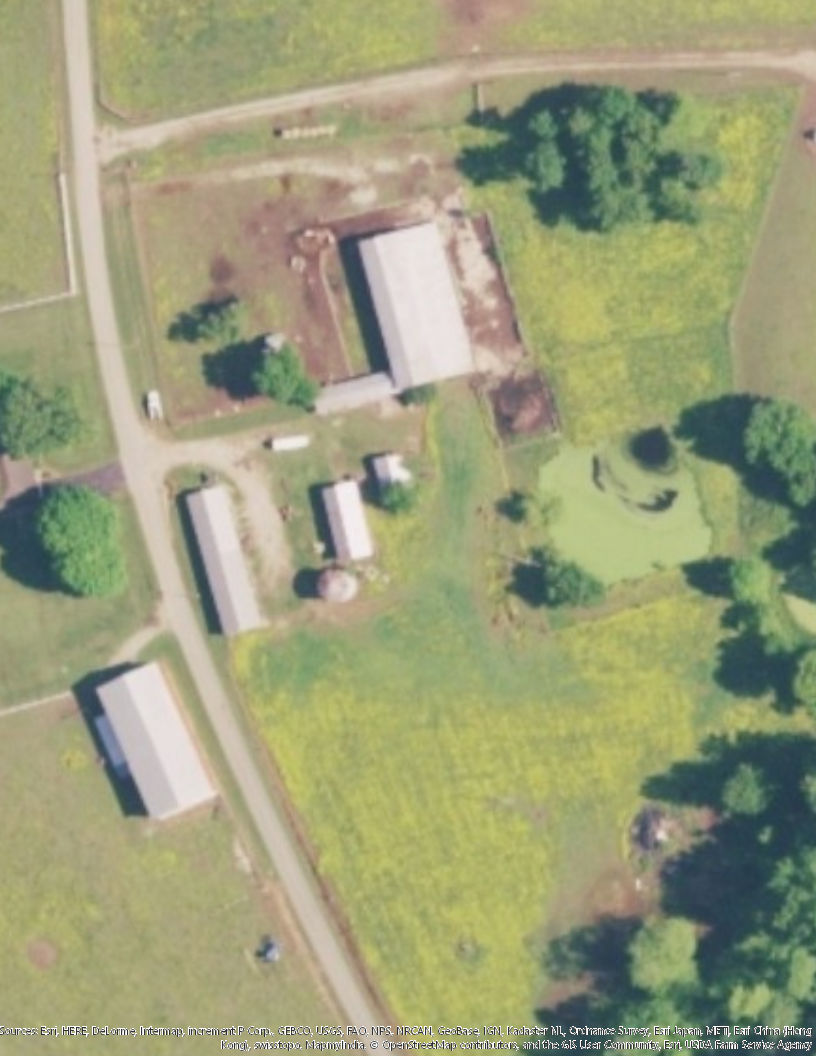cafo: (301, 209, 489, 410), (82, 656, 227, 823), (177, 476, 276, 638)
